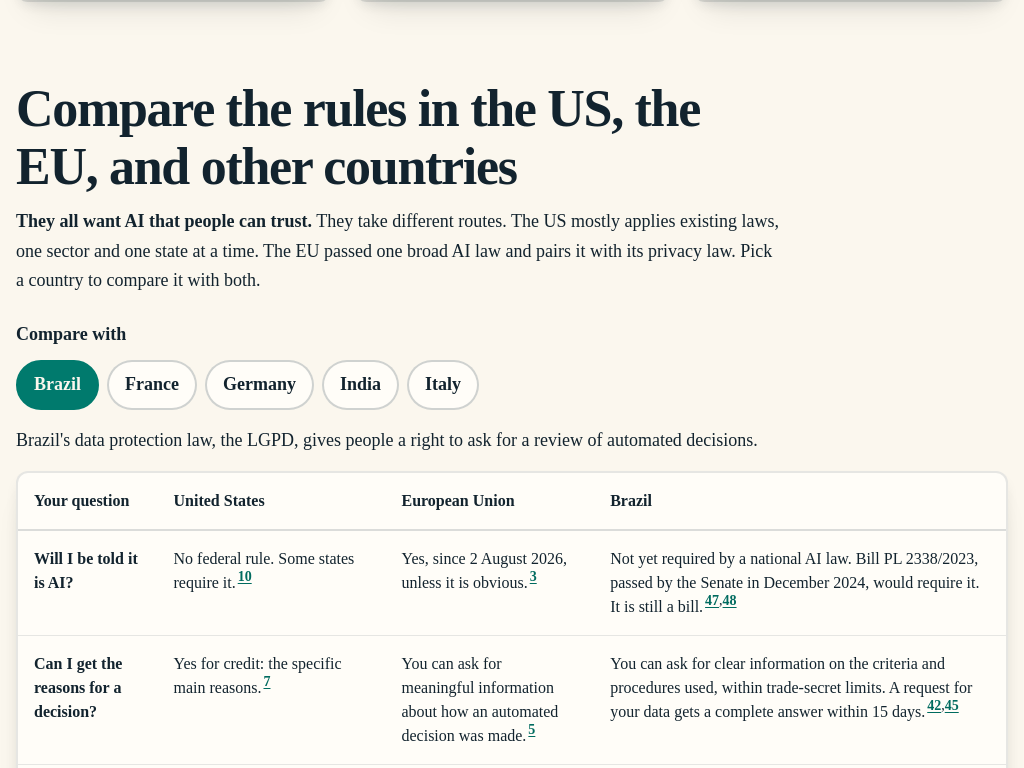
Test: Guide page › cites every India cell, and says plainly which rights India's law does not give
This screenshot has width=1024, height=768.
(page scrolled)
Click the radio button labelled "India" at x=360, y=385, box 322,360 -> 399,410
(page scrolled)
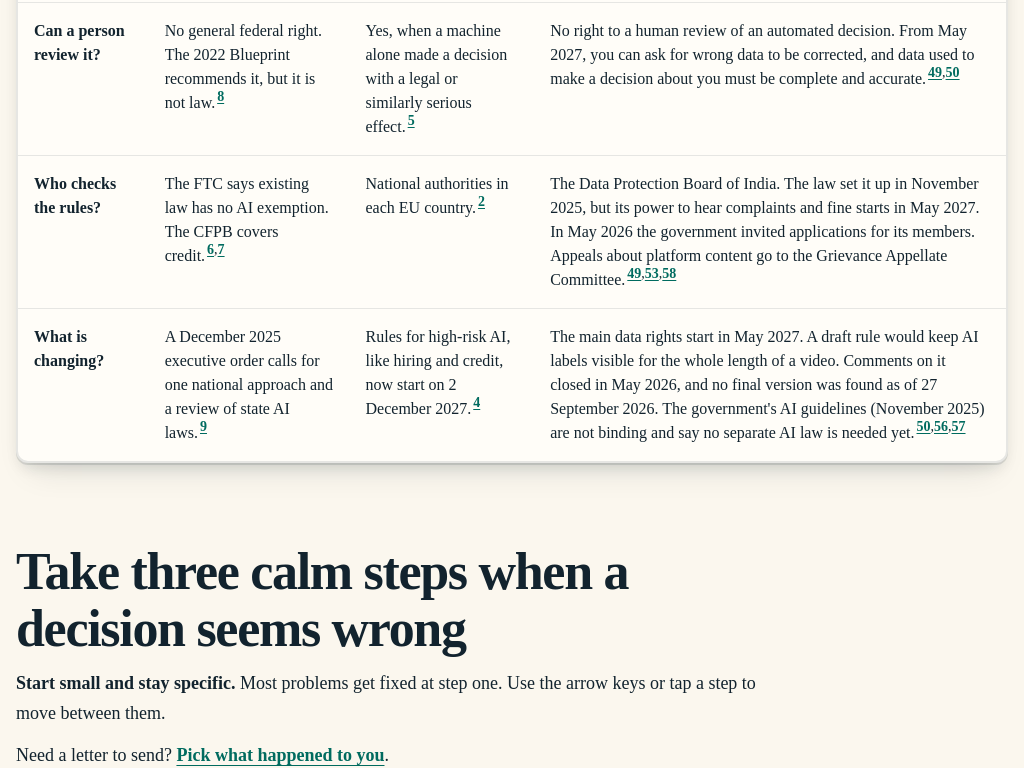
Expected: the text "No right to a human review" is shown, 550,22 -> 974,87
Expected: the text "A draft rule" is shown, 550,328 -> 985,441
Expected: the text "not binding" is shown, 550,328 -> 985,441
